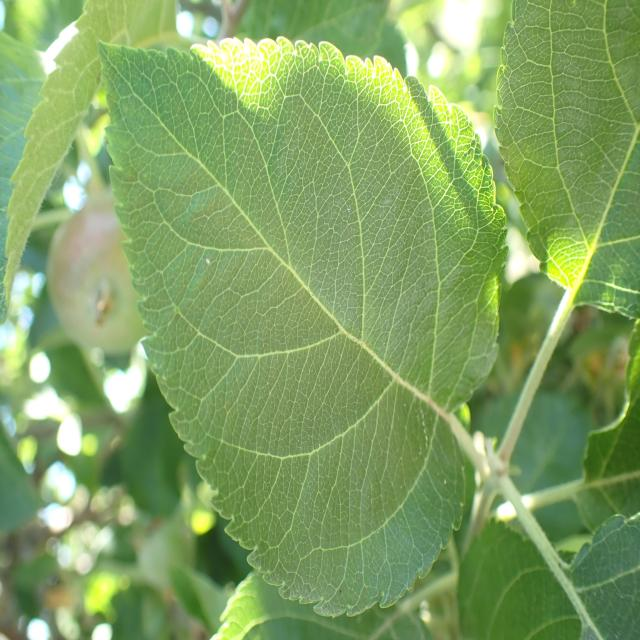healthy: (97, 34, 508, 617), (493, 0, 640, 321), (457, 515, 585, 640), (575, 318, 640, 534), (568, 512, 640, 640)
